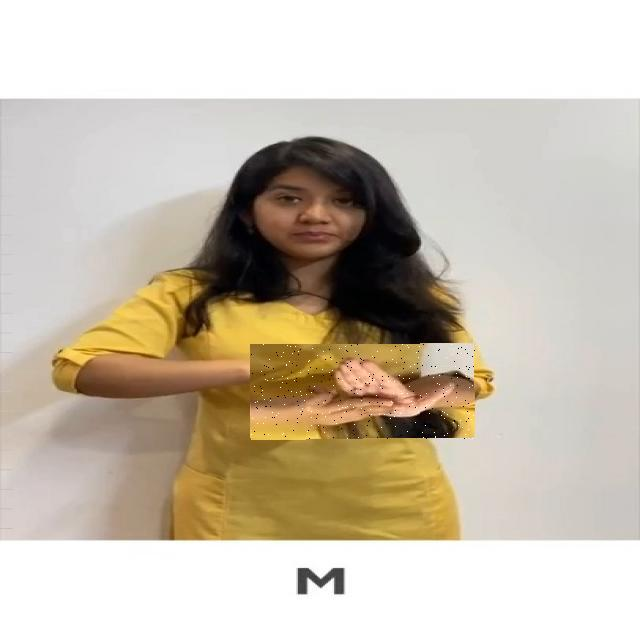M: (250, 344, 475, 439)
